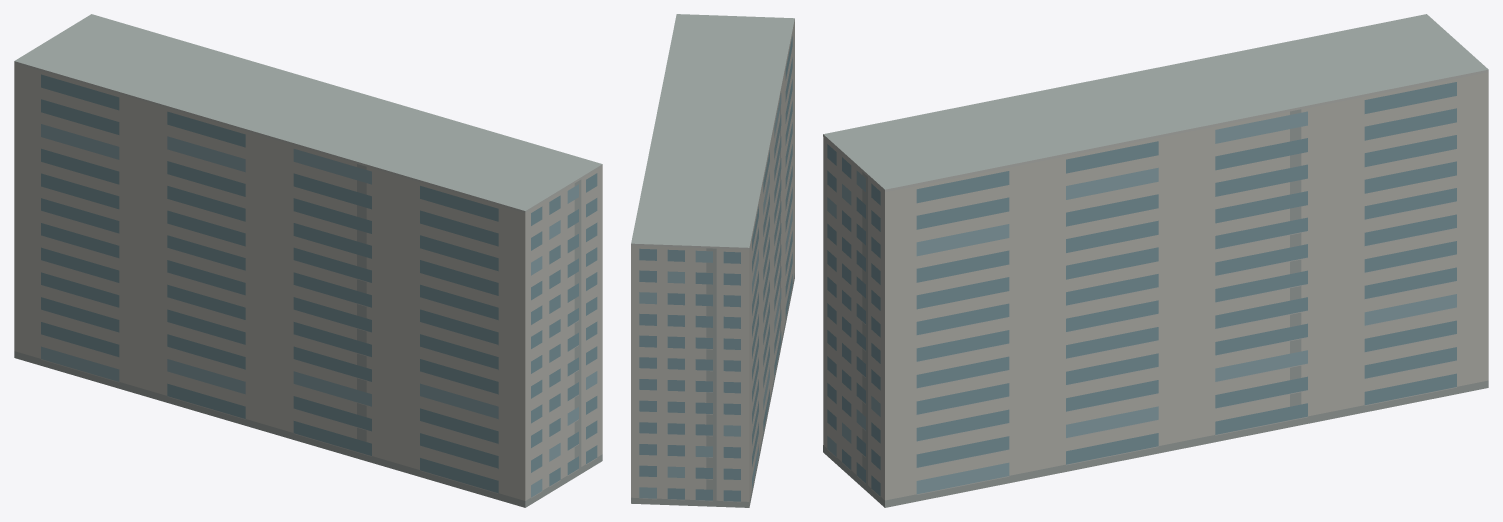
File: residential-5dab4e7c-2a95-4bc9-970d-bfd795aec430.glb
The picture shows the model from 3 angles, left to right: view 1: azimuth 30°, elevation 25°; view 2: azimuth 150°, elevation 25°; view 3: azimuth 270°, elevation 25°; orthographic projection. The views are drawn at different scales.
Parts seen in each view (by area): view 1: residential-5dab4e7c-2a95-4bc9-970d-bfd795aec430.tmp; view 2: residential-5dab4e7c-2a95-4bc9-970d-bfd795aec430.tmp; view 3: residential-5dab4e7c-2a95-4bc9-970d-bfd795aec430.tmp.
Part boxes in pixels (bbox=[...]): residential-5dab4e7c-2a95-4bc9-970d-bfd795aec430.tmp: bbox=[14, 14, 602, 507]; residential-5dab4e7c-2a95-4bc9-970d-bfd795aec430.tmp: bbox=[631, 14, 794, 507]; residential-5dab4e7c-2a95-4bc9-970d-bfd795aec430.tmp: bbox=[823, 14, 1488, 507].
Size of the model in its own units: 39.08 by 33 by 62.56.
